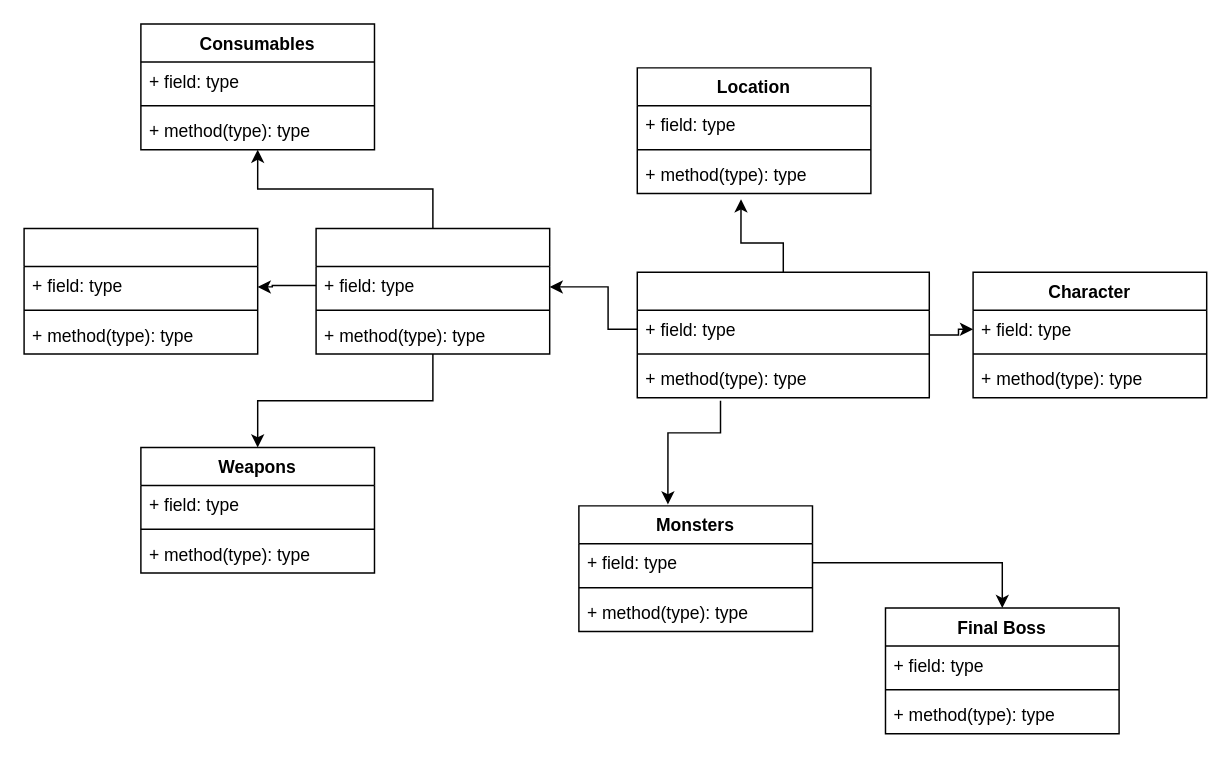
The diagram is 1231 pixels wide and 758 high, and some of its shapes have lost their labels. The shapes that lost their labels are listed below. From the top down, each one's box as (x1, y1, x2, y2) in pixels, then its label:
(23, 227, 258, 354): Spells
(315, 227, 550, 354): Items
(636, 271, 929, 398): Game Logic
